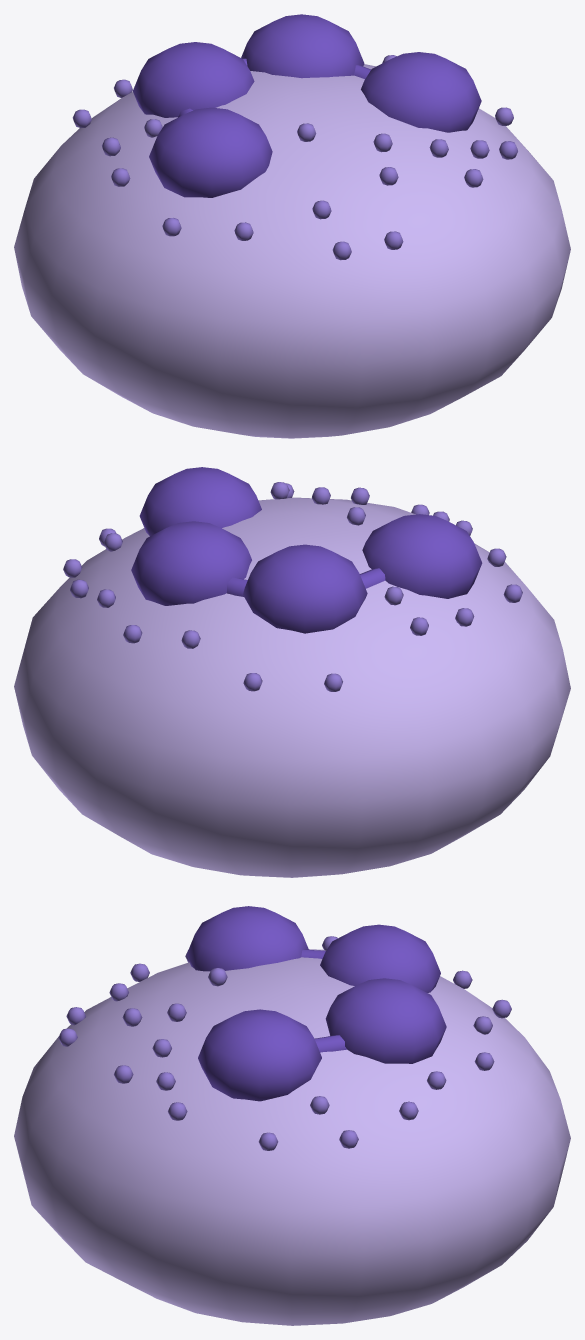
Rendered from neutrophil.glb.
3 renders of one model, top to bottom at view 1: azimuth 30°, elevation 25°; view 2: azimuth 150°, elevation 25°; view 3: azimuth 270°, elevation 25°, orthographic.
Visible parts, largest first — view 1: IW_L2_x_neutrophil; view 2: IW_L2_x_neutrophil; view 3: IW_L2_x_neutrophil.
Boxes of the visible parts, x1=… form: IW_L2_x_neutrophil: x1=14, y1=14, x2=570, y2=438; IW_L2_x_neutrophil: x1=14, y1=467, x2=570, y2=877; IW_L2_x_neutrophil: x1=14, y1=906, x2=570, y2=1325.
Bounding box in the file's own units: 1.96 × 1.29 × 1.97.
